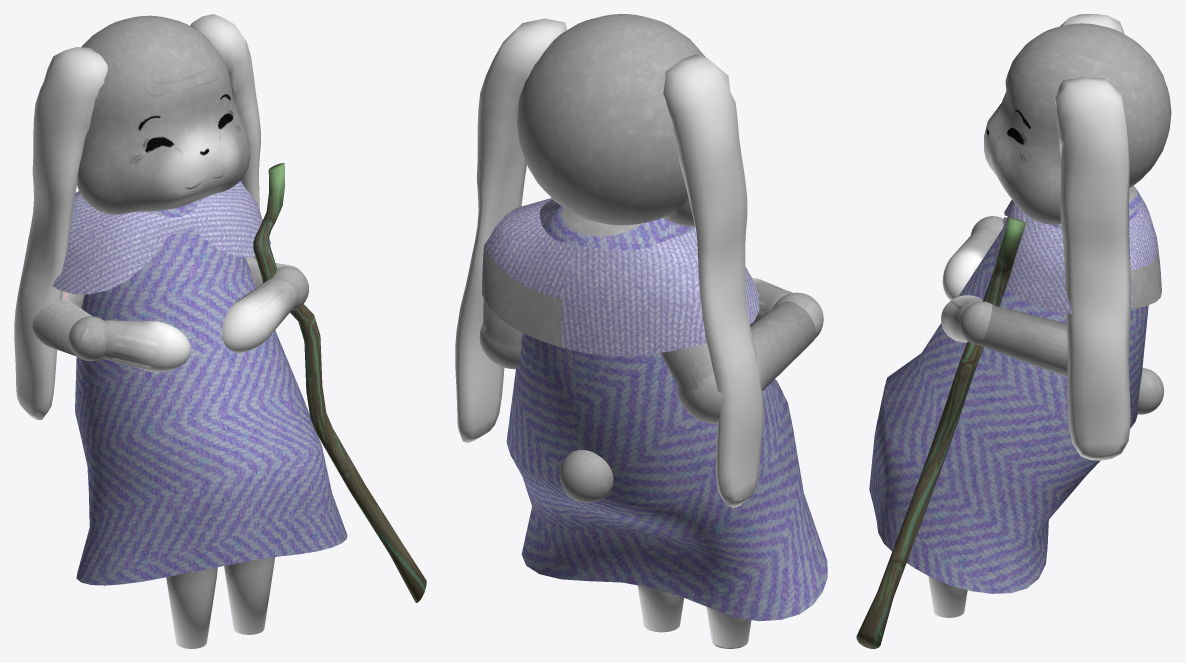
Rendered from GrannyBunnyFinal.fbx.
The picture shows the model from 3 angles, left to right: view 1: azimuth 30°, elevation 25°; view 2: azimuth 150°, elevation 25°; view 3: azimuth 270°, elevation 25°; orthographic projection. The views are drawn at different scales.
Parts seen in each view (by area): view 1: Платье, Голова, uho, Cylinder, Цилиндр, Хваталка.001, Хваталка, Правая Нога, Левая Нога, Лапка.001, Плечико.003, Плечико.002; view 2: Платье, uho, Голова, Cylinder, Лапка.001, Хвостик, Лапка, Левая Нога, Правая Нога, Хваталка.001, Плечико.003; view 3: Платье, uho, Голова, Цилиндр, Cylinder, Лапка, Хваталка.001, Левая Нога, Плечико.002, Хваталка, Хвостик.
Boxes of the visible parts, x1,y1,x2,y2 form: Платье: (75, 196, 347, 585); Голова: (77, 15, 250, 214); uho: (14, 14, 260, 419); Cylinder: (52, 181, 270, 294); Цилиндр: (253, 163, 426, 602); Хваталка.001: (102, 320, 190, 372); Хваталка: (222, 278, 297, 352); Правая Нога: (166, 567, 217, 648); Левая Нога: (224, 557, 274, 634); Лапка.001: (32, 291, 91, 356); Плечико.003: (68, 316, 106, 361); Плечико.002: (273, 266, 308, 310); Платье: (506, 206, 827, 621); uho: (455, 18, 763, 507); Голова: (517, 14, 705, 226); Cylinder: (482, 198, 759, 356); Лапка.001: (661, 301, 815, 424); Хвостик: (559, 450, 613, 502); Лапка: (479, 298, 522, 369); Левая Нога: (637, 585, 683, 632); Правая Нога: (706, 606, 751, 648); Хваталка.001: (750, 277, 792, 325); Плечико.003: (773, 292, 823, 338); Платье: (869, 185, 1148, 593); uho: (1054, 14, 1131, 460); Голова: (984, 23, 1171, 224); Цилиндр: (856, 217, 1025, 648); Cylinder: (993, 186, 1161, 313); Лапка: (980, 305, 1067, 378); Хваталка.001: (942, 227, 998, 300); Левая Нога: (928, 576, 967, 617); Плечико.002: (959, 301, 993, 345); Хваталка: (941, 295, 982, 342); Хвостик: (1137, 368, 1164, 414).
Bounding box in the file's own units: 357 × 655 × 332.
